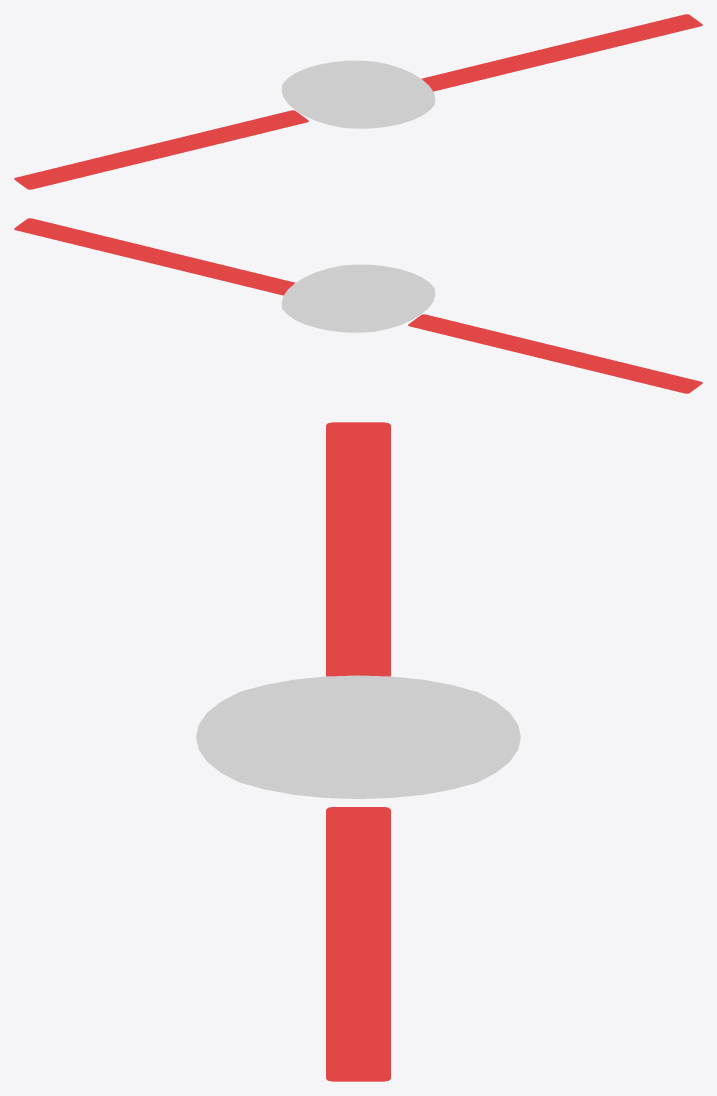
File: dp_bar.fbx
3 views of the same model, one above another, from view 1: azimuth 30°, elevation 25°; view 2: azimuth 150°, elevation 25°; view 3: azimuth 270°, elevation 25° (orthographic). The views are drawn at different scales.
Visible parts, largest first — view 1: dp, HPBar_l, HPBar_r; view 2: dp, HPBar_l, HPBar_r; view 3: dp, HPBar_r, HPBar_l.
Boxes of the visible parts, box(x1,y1,x2,y2) form: dp: box(281, 60, 435, 128); HPBar_l: box(14, 110, 308, 189); HPBar_r: box(421, 14, 702, 91); dp: box(281, 264, 435, 332); HPBar_l: box(408, 314, 702, 393); HPBar_r: box(14, 218, 295, 295); dp: box(196, 675, 520, 798); HPBar_r: box(326, 807, 390, 1081); HPBar_l: box(326, 422, 390, 676).
Size of the model in its own units: 960 by 10 by 200.
